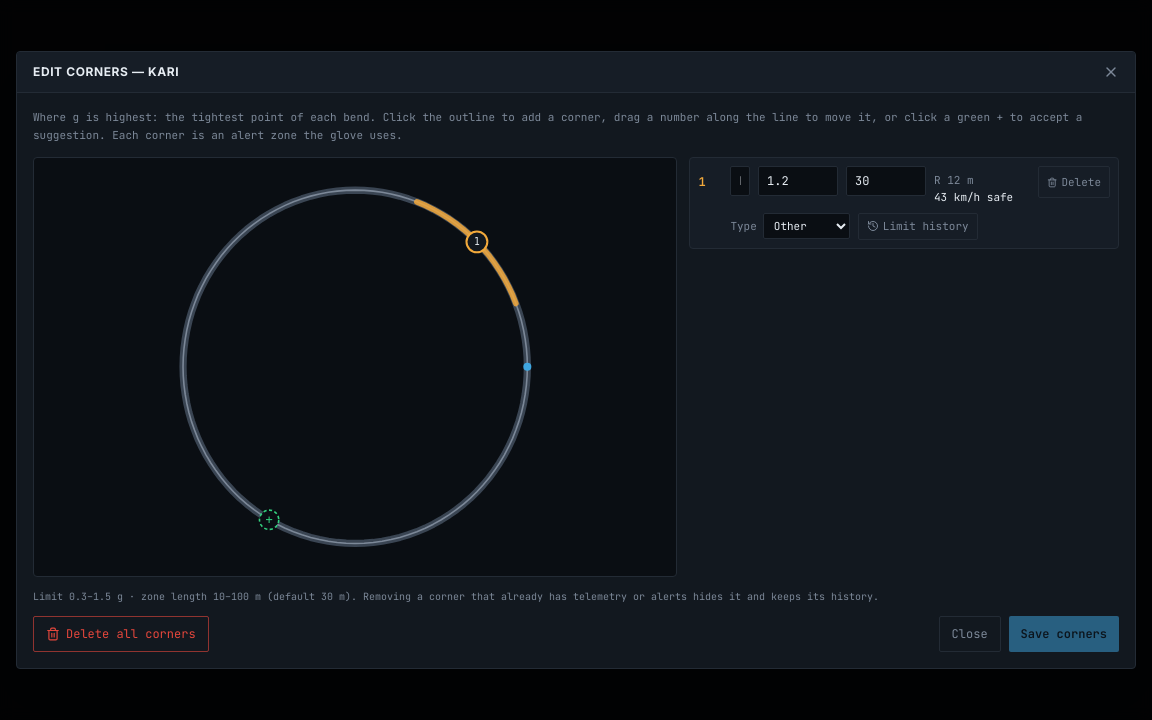
Test: CornerEditorDialog (editable map) › adds a marker when the outline is clicked and ignores clicks far from it
Later steps or results of the test are not shown.
Expected: the element with test id "corner-marker-table" is shown, [689,157,1119,249]
Click the picture with test id "corner-editor-canvas": {"x": 355, "y": 367} [33,157,677,577]
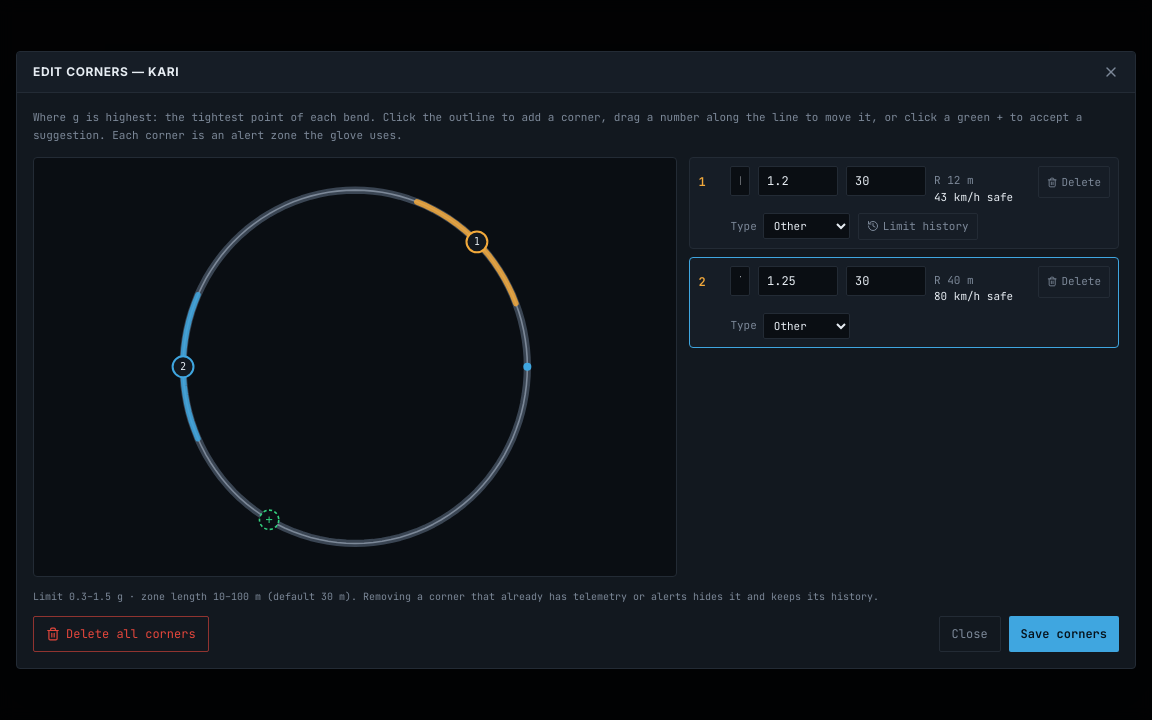
Expected: the element with test id "marker-row-2" is shown, [689,257,1119,348]
